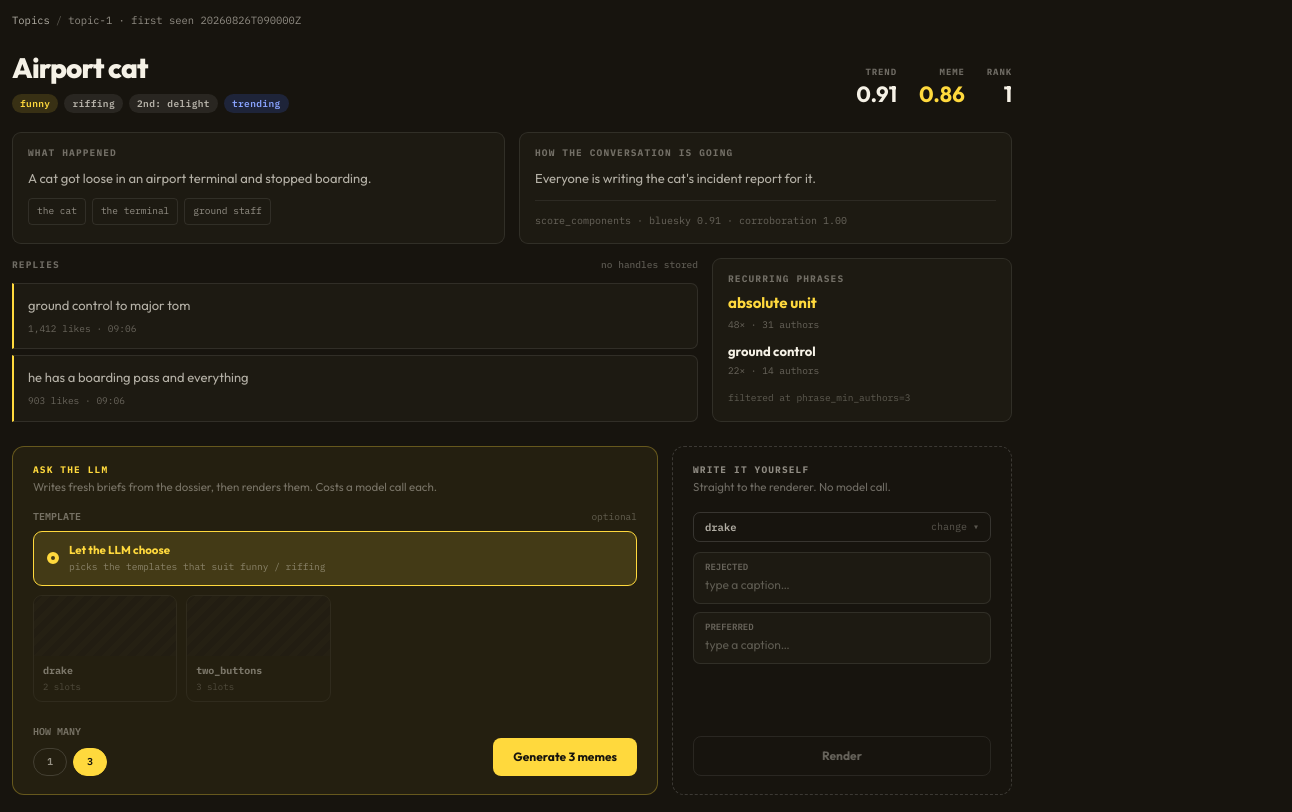
it: Write it yourself › swaps the fields when the template changes
The width and height of the screenshot is (1292, 812).
Step 1. Select "two_buttons" in the dropdown named "Template" → x=814, y=527, box [705, 522, 923, 532]
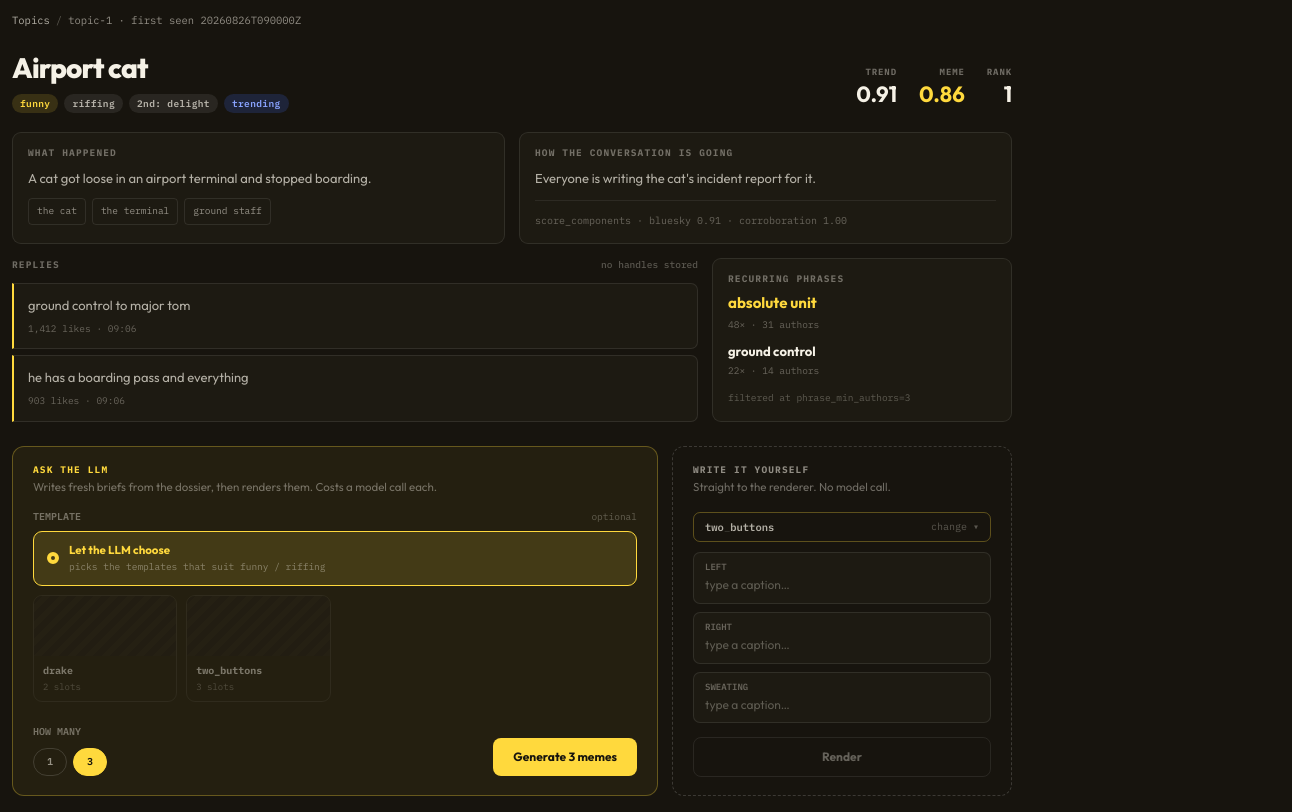
Check: the field labelled "left" is shown, box [705, 577, 979, 594]
Check: the text "rejected" is gone
